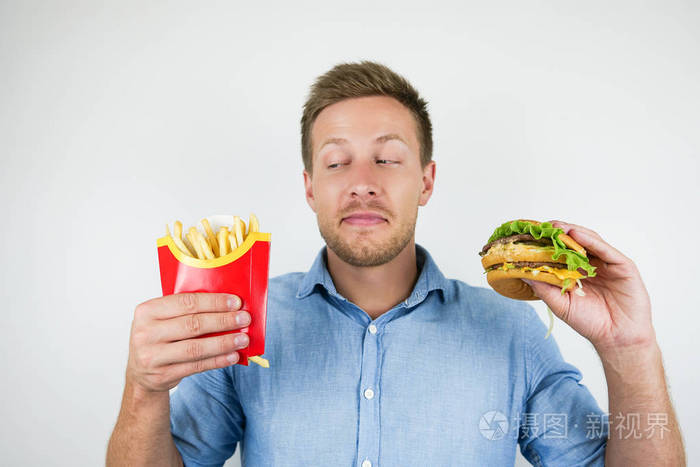no-phone: (117, 216, 278, 396), (476, 212, 662, 359)
